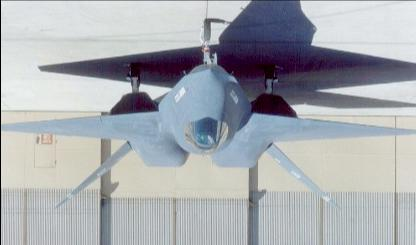US2: (1, 17, 415, 213)
